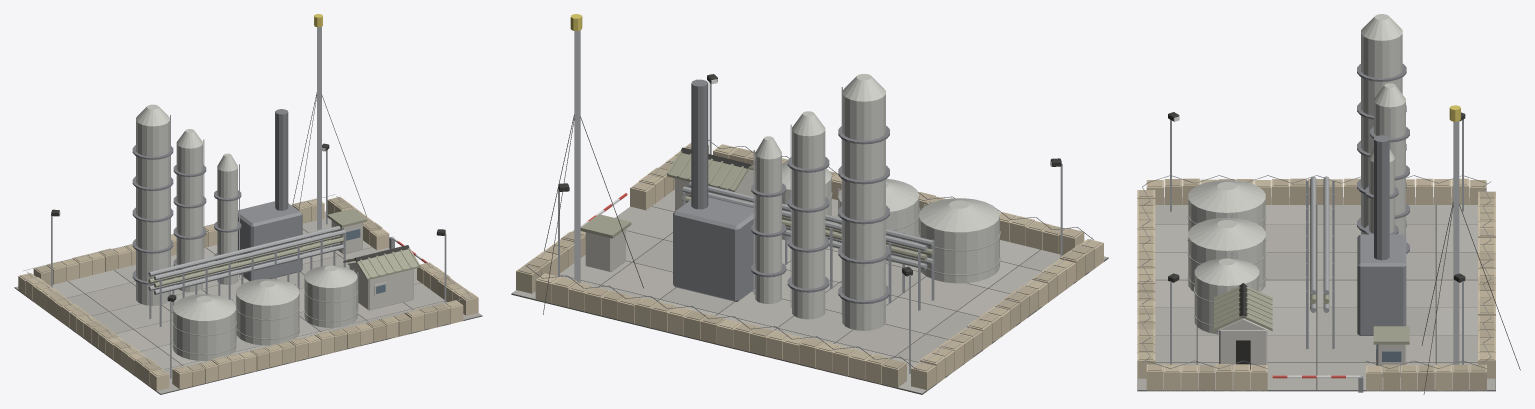
Rendered from b_refinery.glb.
3 renders of one model, left to right at view 1: azimuth 30°, elevation 25°; view 2: azimuth 150°, elevation 25°; view 3: azimuth 270°, elevation 25°, orthographic. The views are drawn at different scales.
Parts seen in each view (by area): view 1: hull; view 2: hull; view 3: hull.
Part boxes in pixels (x1,y1,x2,y2): hull: (14, 14, 482, 394); hull: (511, 14, 1108, 394); hull: (1137, 14, 1520, 394).
Size of the model in its own units: 28.53 by 17.81 by 23.51.
